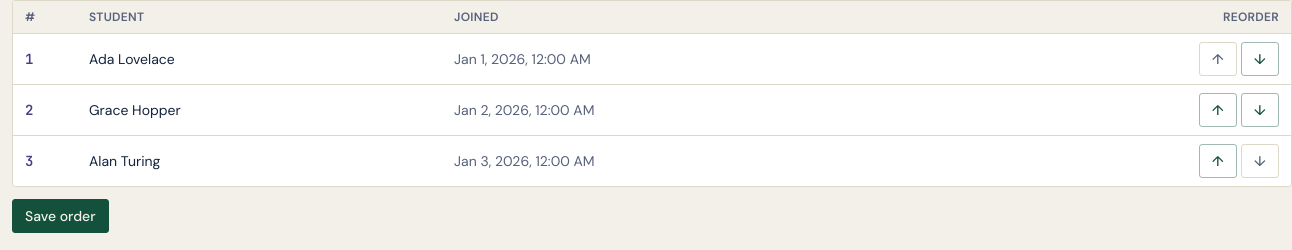
Test: WaitlistReorder › shows a generic inline error for other failures
The image size is (1292, 250).
Click the button "Save order".
click(60, 216)  # box [12, 199, 108, 233]
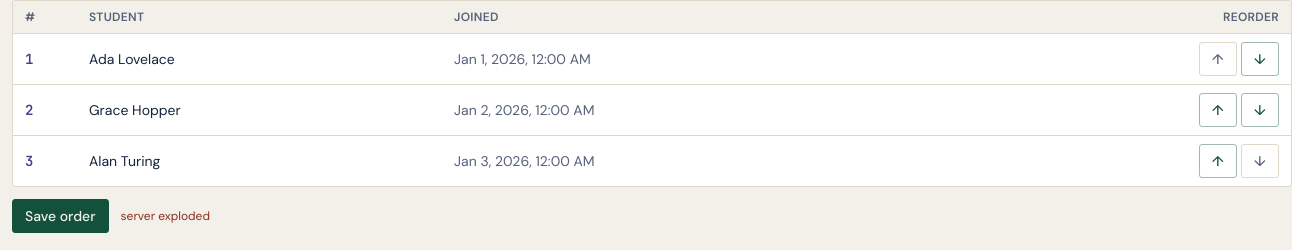
Result: the message reads "server exploded" at [120, 208, 210, 224]
